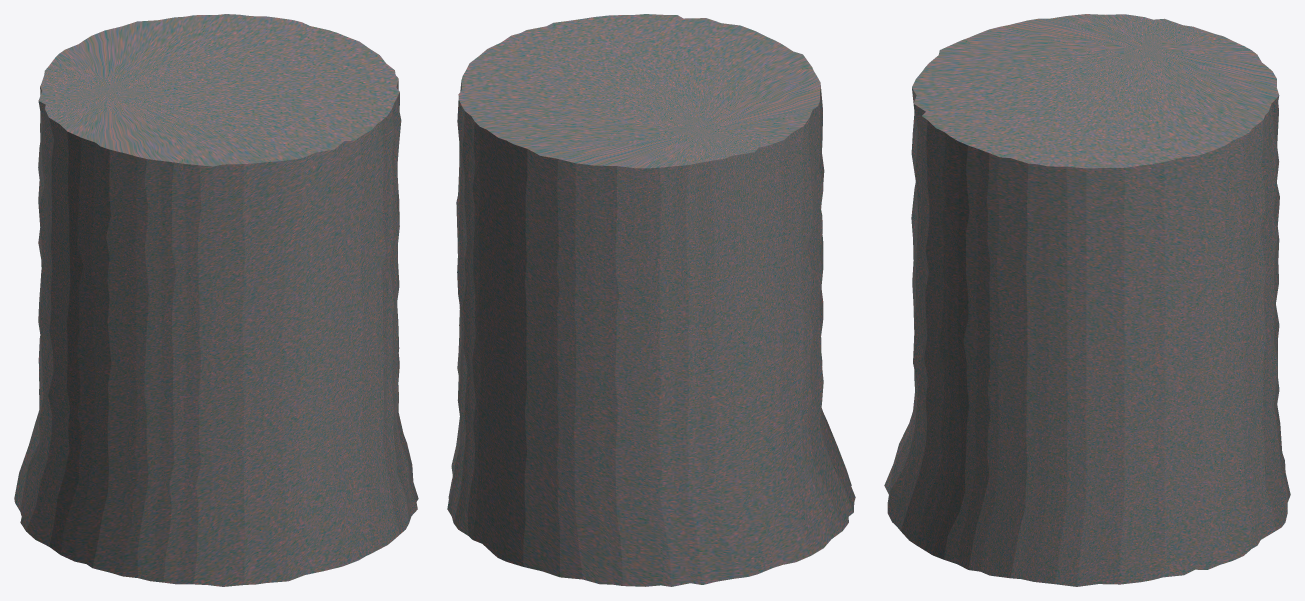
File: barrel_1.dae
The picture shows the model from 3 angles, left to right: view 1: azimuth 30°, elevation 25°; view 2: azimuth 150°, elevation 25°; view 3: azimuth 270°, elevation 25°; orthographic projection.
Parts seen in each view (by area): view 1: Cylinder; view 2: Cylinder; view 3: Cylinder.
Part boxes in pixels (x1,y1,x2,y2): Cylinder: [14, 14, 418, 586]; Cylinder: [447, 14, 855, 586]; Cylinder: [884, 14, 1290, 586].
Bounding box in the file's own units: 0.9077 × 0.895 × 1.
1 material, 1 textured.
